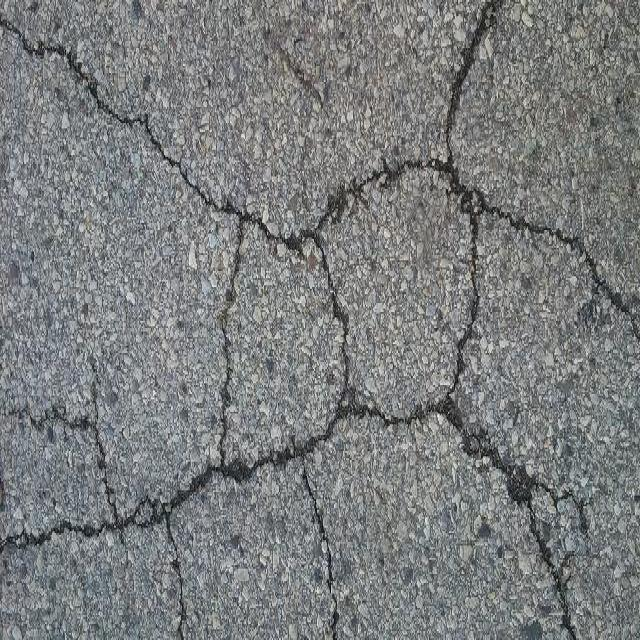GRIETA: (0, 18, 219, 209), (472, 189, 639, 341), (0, 403, 120, 520), (445, 0, 502, 167), (0, 500, 157, 552)
PIEL DE COCODRILO: (155, 151, 584, 639)
